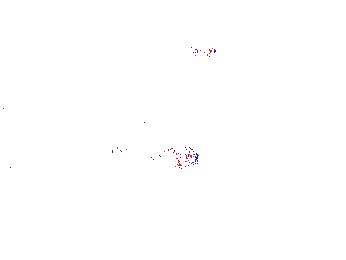X-ray fish: (149, 145, 199, 169)
redtail glassfish: (99, 104, 156, 139)
